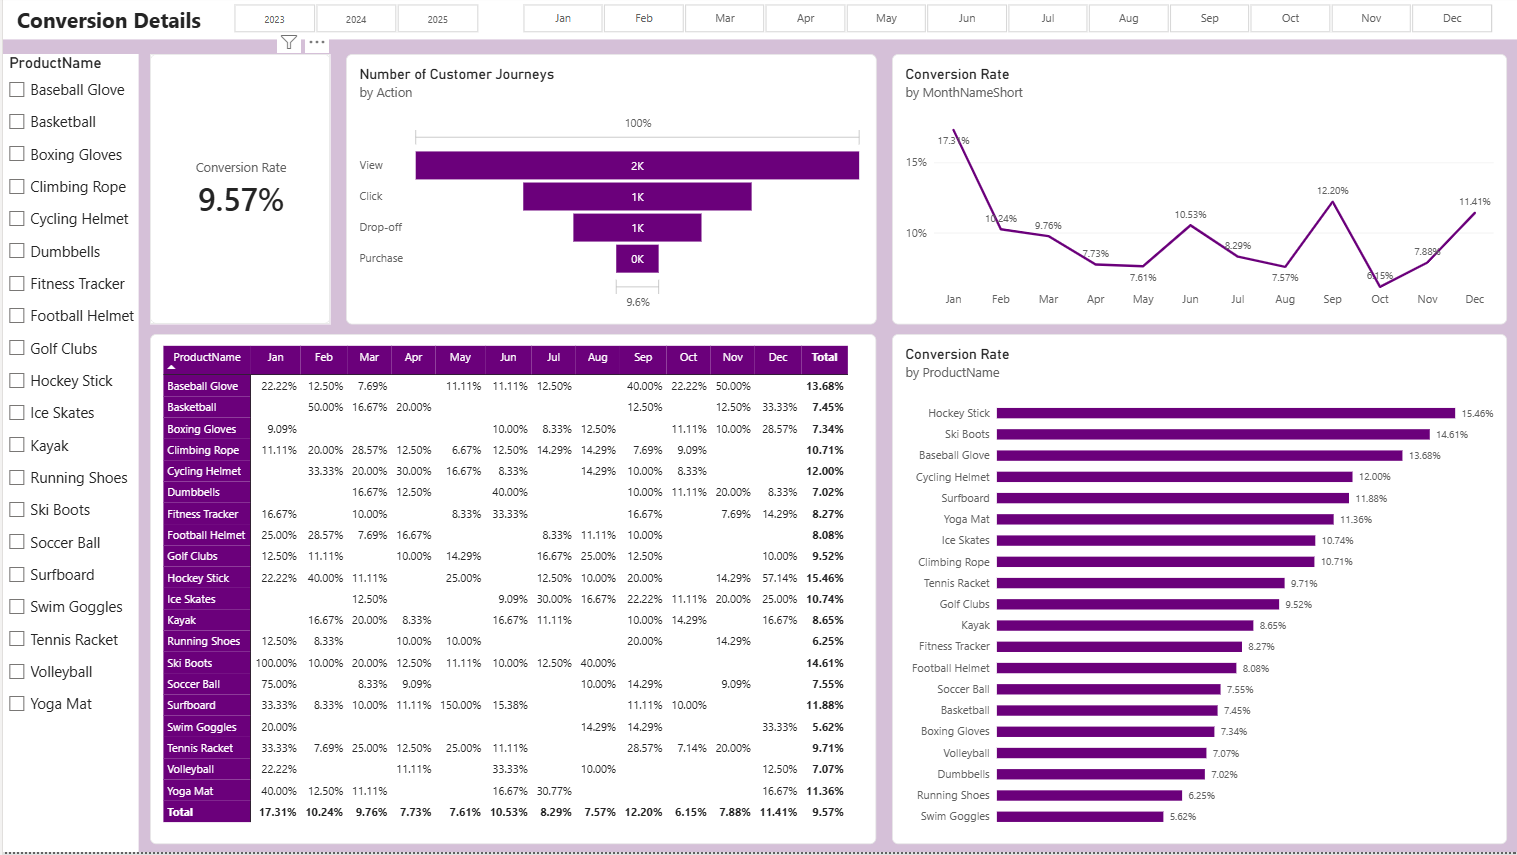

The page's visual inventory and layout, read from the dashboard file:
{"tool":"powerbi","page":{"name":"Conversion Details ","canvas":[1920,1080],"ordinal":1},"visuals":[{"type":"textbox","box":[0,0,1920,50.5],"z":0},{"type":"slicer","fields":{"Values":["dim_products.ProductName"]},"box":[0,68.6,172.1,1011.8],"z":1000},{"type":"cardVisual","fields":{"Data":["_Calculations (2).Conversion Rate"]},"box":[186.3,68.6,229,342.9],"z":2000},{"type":"slicer","fields":{"Values":["Calendar.Year"]},"box":[273,3.9,348.7,39.4],"z":3000},{"type":"lineChart","fields":{"Category":["Calendar.MonthNameShort"],"Y":["_Calculations (2).Conversion Rate"]},"box":[1126.9,68.6,780.2,342.9],"z":4000},{"type":"clusteredBarChart","fields":{"Category":["dim_products.ProductName"],"Y":["_Calculations (2).Conversion Rate"]},"box":[1126.9,423.1,780.2,646.9],"z":5000},{"type":"slicer","fields":{"Values":["Calendar.MonthNameShort"]},"box":[639.1,3.9,1267.9,38.8],"z":6000},{"type":"pivotTable","fields":{"Columns":["Calendar.MonthNameShort"],"Rows":["dim_products.ProductName"],"Values":["_Calculations (2).Conversion Rate"]},"box":[186.3,423.1,921.2,646.9],"z":7000},{"type":"funnel","fields":{"Category":["fact_customer_journey.Action"],"Y":["_Calculations (2).Number of Customer Journeys"]},"box":[434.7,68.6,672.8,342.9],"z":8000}]}

Visuals, with their boxes in screenshot pixels (x1, y1, x2, y2), scaled from the page's 1920x1080 canvas onto the 1517x855 screenshot:
textbox: [x1=0, y1=0, x2=1516, y2=40]
slicer - dim_products.ProductName: [x1=0, y1=54, x2=136, y2=854]
cardVisual - _Calculations (2).Conversion Rate: [x1=147, y1=54, x2=328, y2=326]
slicer - Calendar.Year: [x1=216, y1=3, x2=491, y2=34]
lineChart - Calendar.MonthNameShort x _Calculations (2).Conversion Rate: [x1=890, y1=54, x2=1507, y2=326]
clusteredBarChart - dim_products.ProductName x _Calculations (2).Conversion Rate: [x1=890, y1=335, x2=1507, y2=847]
slicer - Calendar.MonthNameShort: [x1=505, y1=3, x2=1507, y2=34]
pivotTable - Calendar.MonthNameShort x dim_products.ProductName: [x1=147, y1=335, x2=875, y2=847]
funnel - fact_customer_journey.Action x _Calculations (2).Number of Customer Journeys: [x1=343, y1=54, x2=875, y2=326]
